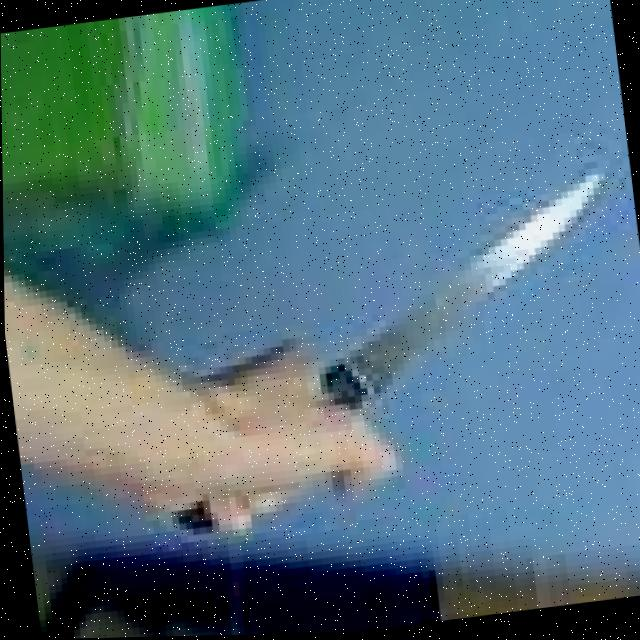knife: (303, 166, 626, 415)
